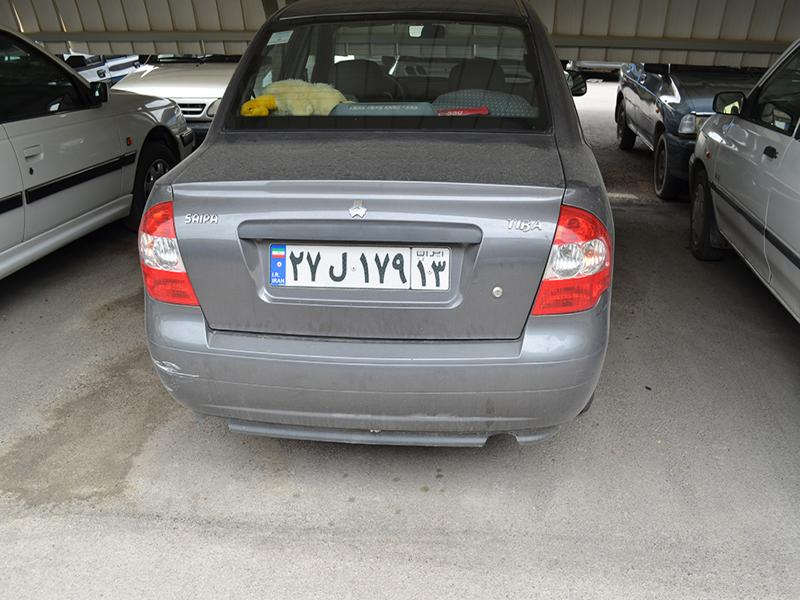Plate: (256, 235, 456, 298)
